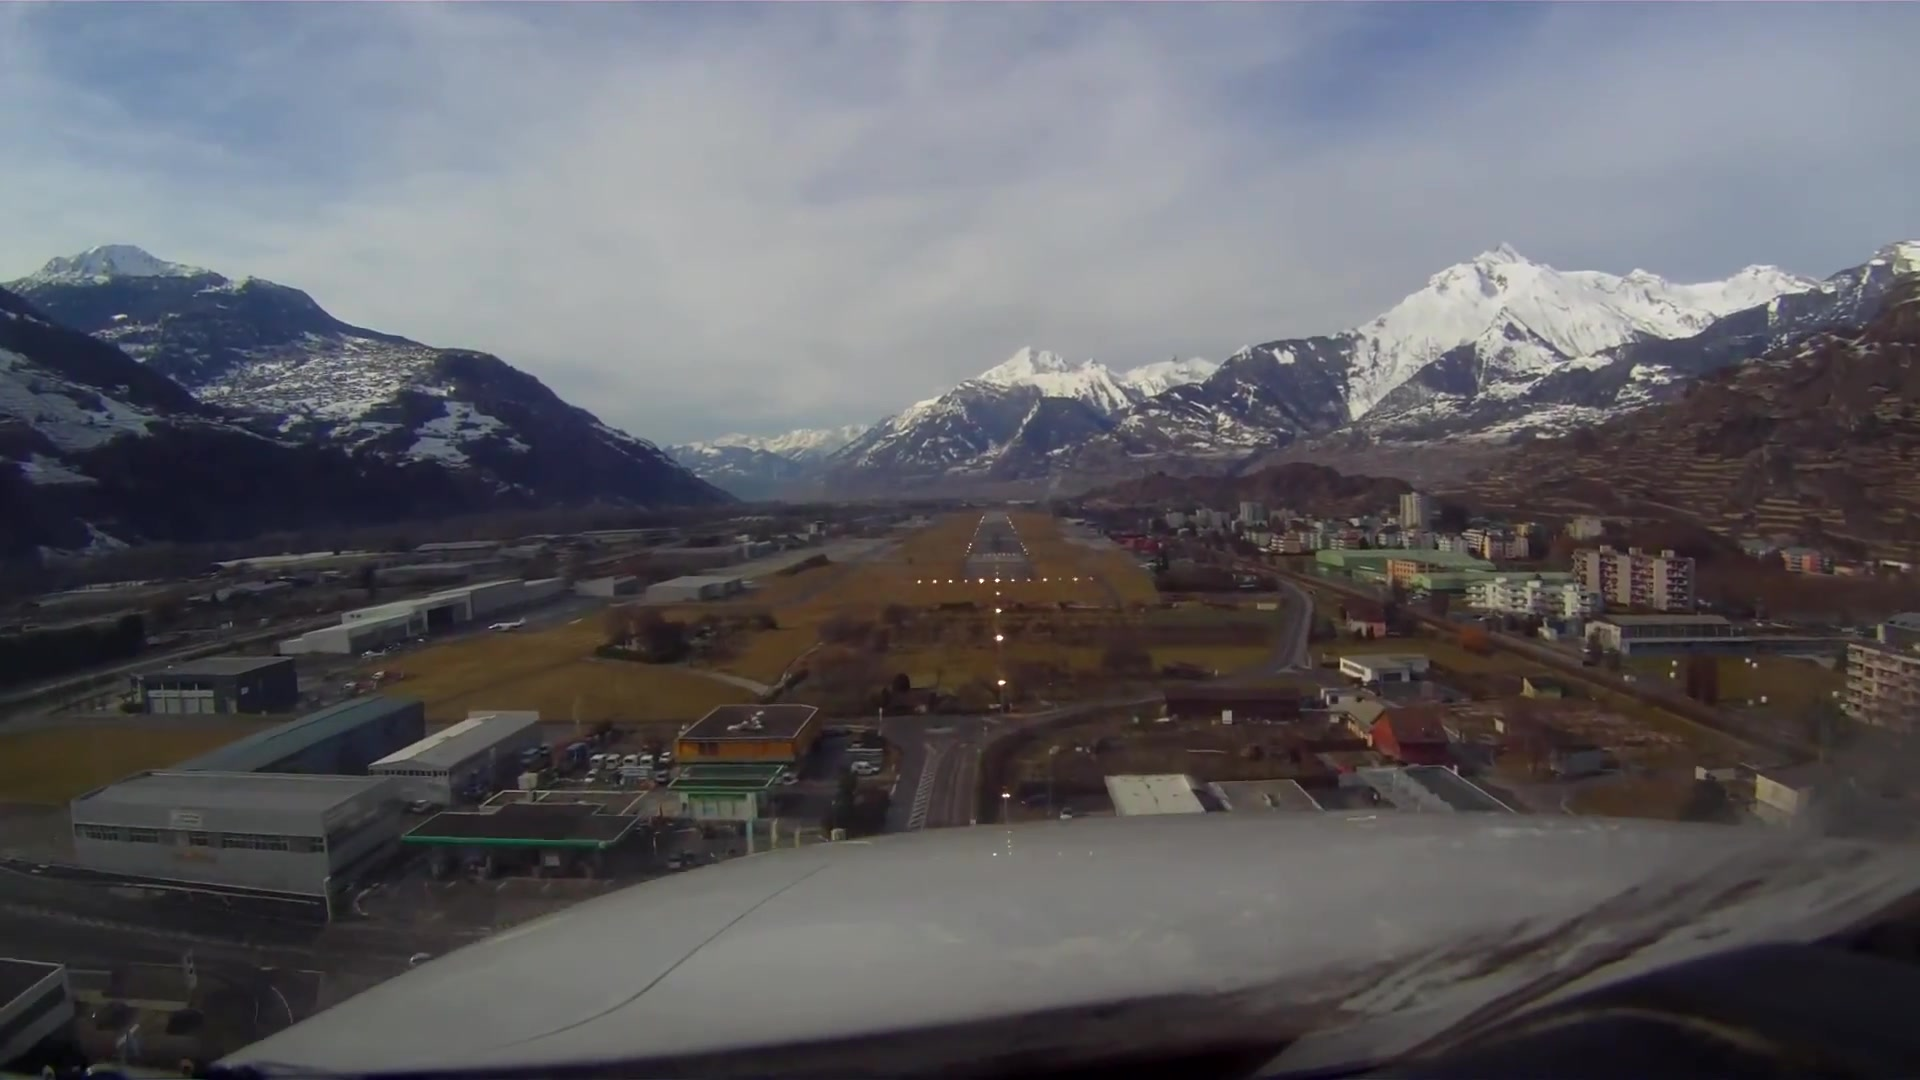runway: (963, 508, 1034, 564)
